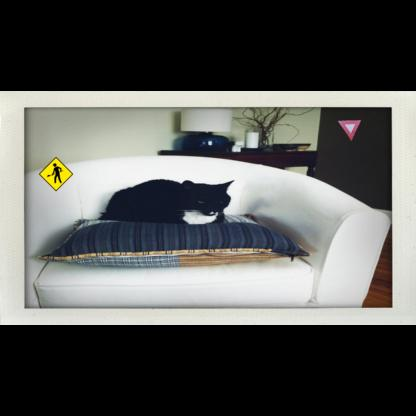A-24: (39, 157, 73, 191)
